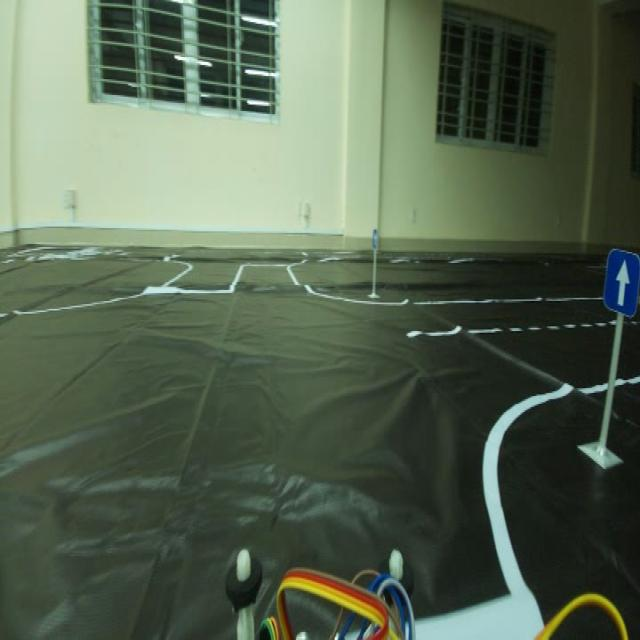onewayroad: (598, 238, 636, 323), (369, 224, 380, 254)
